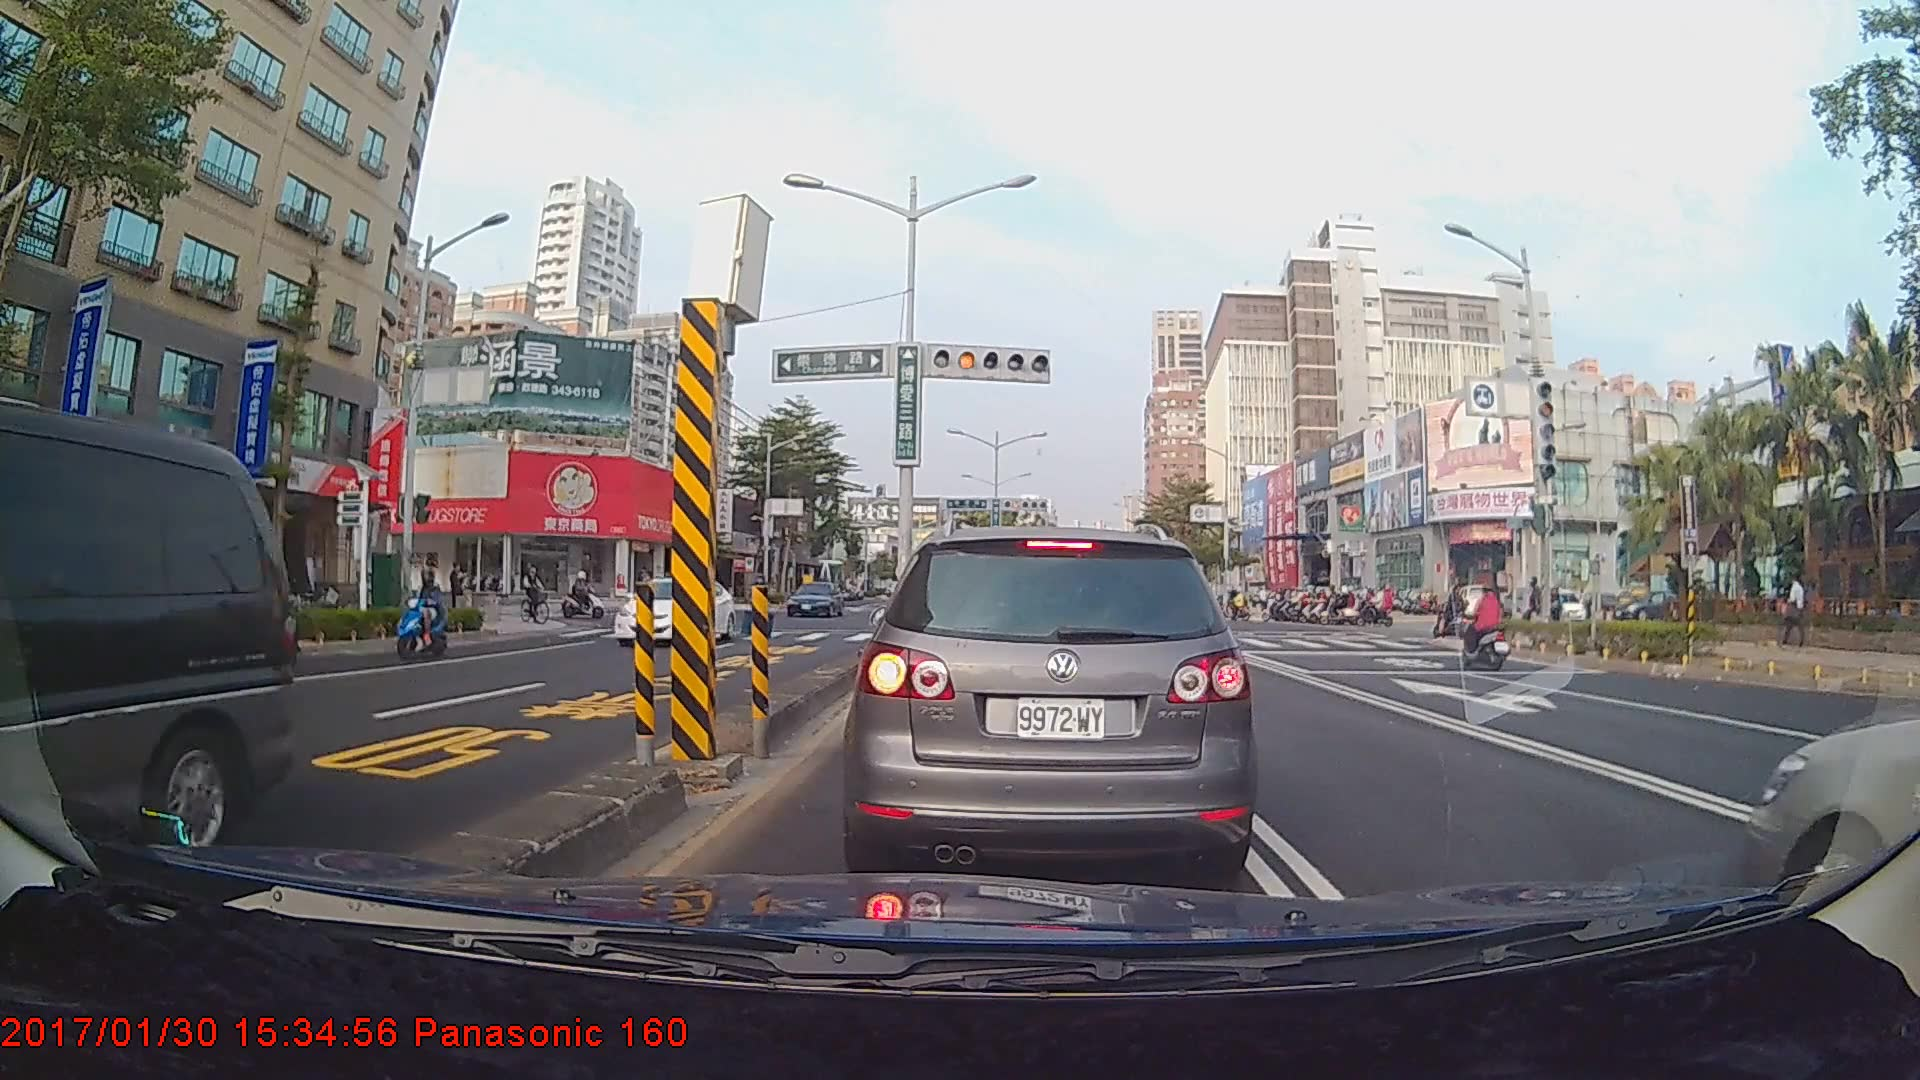pedestrian: (1781, 574, 1808, 648), (448, 558, 468, 621)
rider: (1460, 584, 1518, 673), (561, 568, 613, 625), (518, 559, 553, 629), (1436, 582, 1473, 646)
vehicle: (0, 404, 292, 901), (855, 521, 1250, 879), (612, 575, 736, 648), (784, 578, 841, 618)
